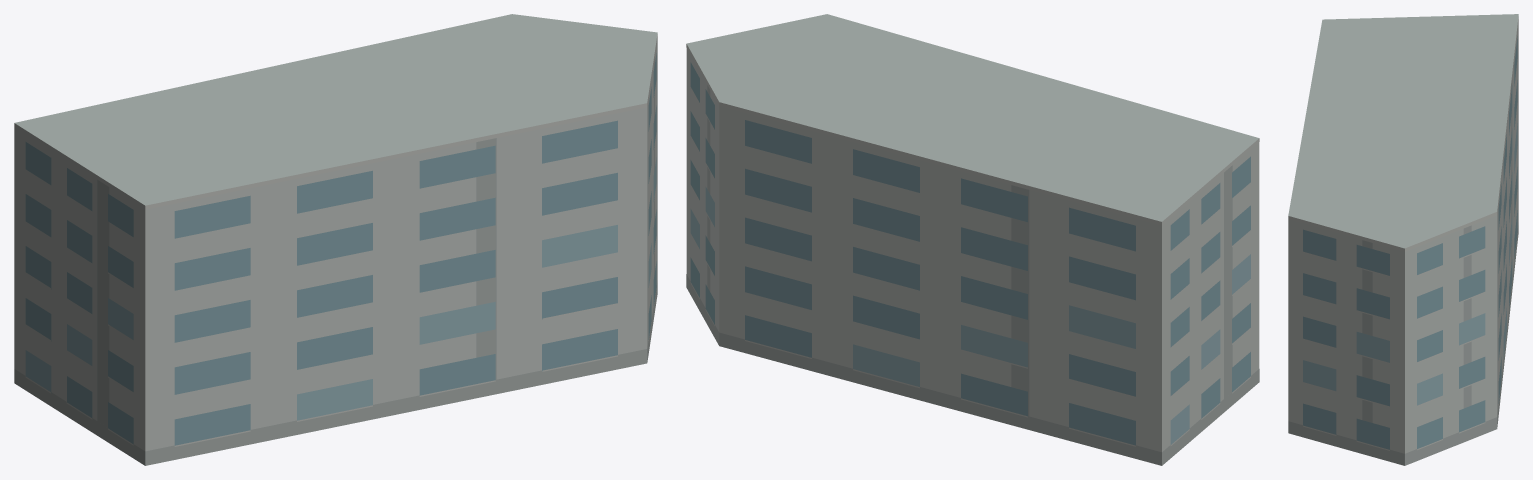
Rendered from survey-upis-32519598.glb.
3 renders of one model, left to right at view 1: azimuth 30°, elevation 25°; view 2: azimuth 150°, elevation 25°; view 3: azimuth 270°, elevation 25°, orthographic. The views are drawn at different scales.
Parts seen in each view (by area): view 1: survey-upis-32519598.tmp; view 2: survey-upis-32519598.tmp; view 3: survey-upis-32519598.tmp.
Part boxes in pixels (x1,y1,x2,y2): survey-upis-32519598.tmp: (14, 14, 657, 465); survey-upis-32519598.tmp: (686, 14, 1259, 465); survey-upis-32519598.tmp: (1288, 14, 1518, 465).
Size of the model in its own units: 35.28 by 15.25 by 14.66.
